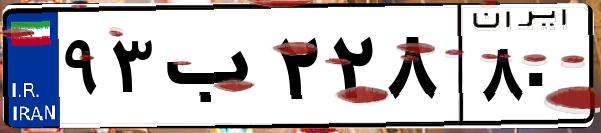0: (525, 38, 570, 115)
2: (270, 28, 330, 110), (330, 28, 385, 110)
3: (110, 28, 158, 98)
8: (385, 28, 445, 110), (475, 38, 525, 113)
9: (57, 26, 110, 100)
ب: (158, 20, 270, 120)
